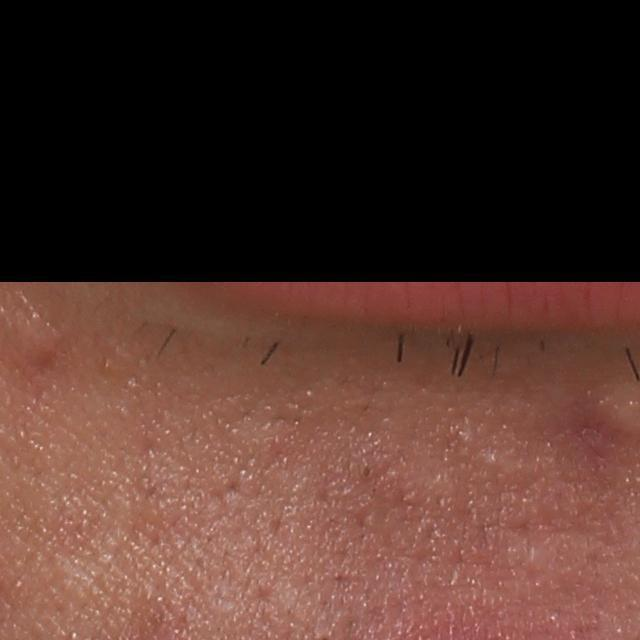comedo: (352, 453, 377, 486)
hypertrophic_scar: (51, 562, 102, 608)
